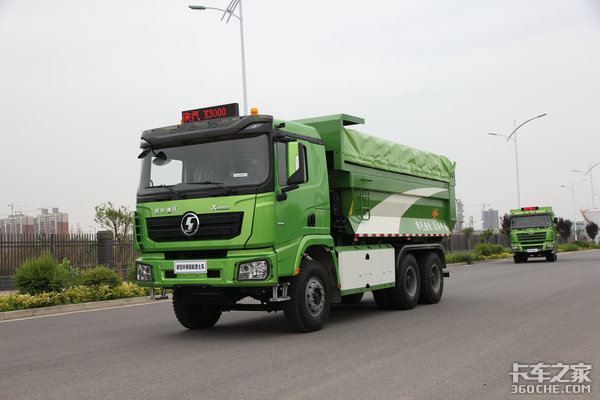garbagetruck: (98, 89, 455, 325)
